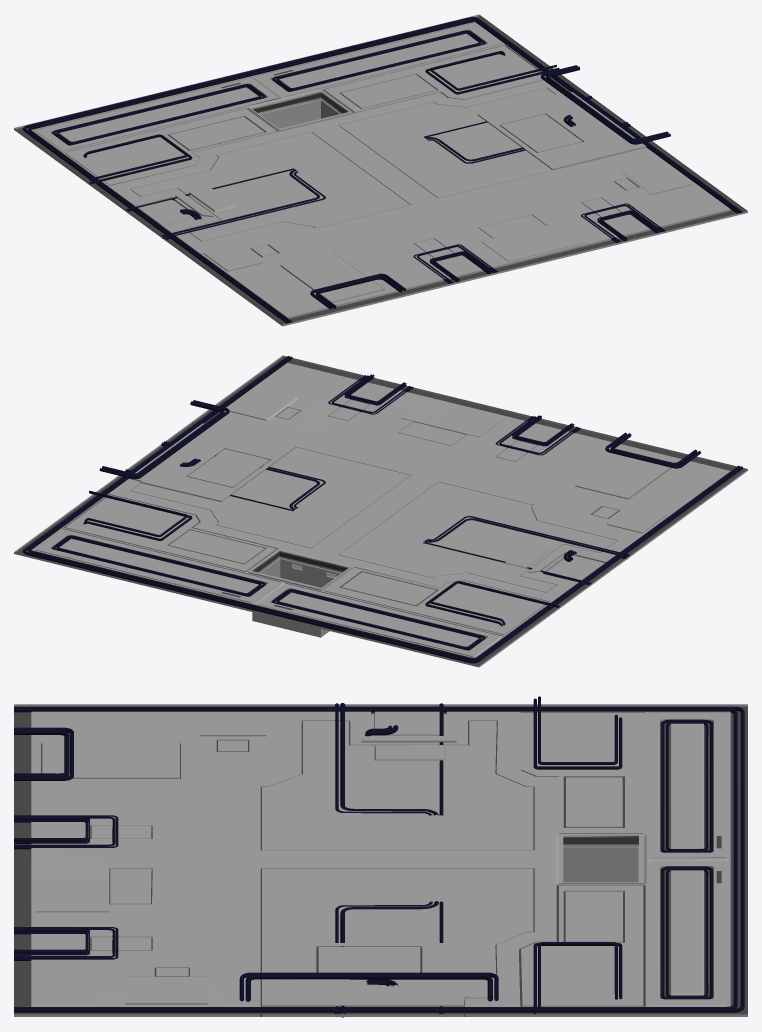
Rendered from WallsModeling - Ground.fbx.
The picture shows the model from 3 angles, top to bottom: view 1: azimuth 30°, elevation 25°; view 2: azimuth 150°, elevation 25°; view 3: azimuth 270°, elevation 25°; orthographic projection. The views are drawn at different scales.
Visible parts, largest first — view 1: Sol, Tuyaux3.008, Tuyaux3; view 2: Sol, Tuyaux3.008, Tuyaux3; view 3: Sol, Tuyaux3.008, Tuyaux3.
Boxes of the visible parts, x1,y1,x2,y2 form: Sol: [14, 14, 747, 326]; Tuyaux3.008: [52, 30, 670, 309]; Tuyaux3: [23, 17, 742, 323]; Sol: [14, 355, 747, 667]; Tuyaux3.008: [52, 374, 700, 650]; Tuyaux3: [23, 356, 742, 663]; Sol: [14, 704, 747, 1016]; Tuyaux3.008: [14, 696, 712, 1017]; Tuyaux3: [14, 706, 744, 1012].
Size of the model in its own units: 1646 by 217 by 1620.
